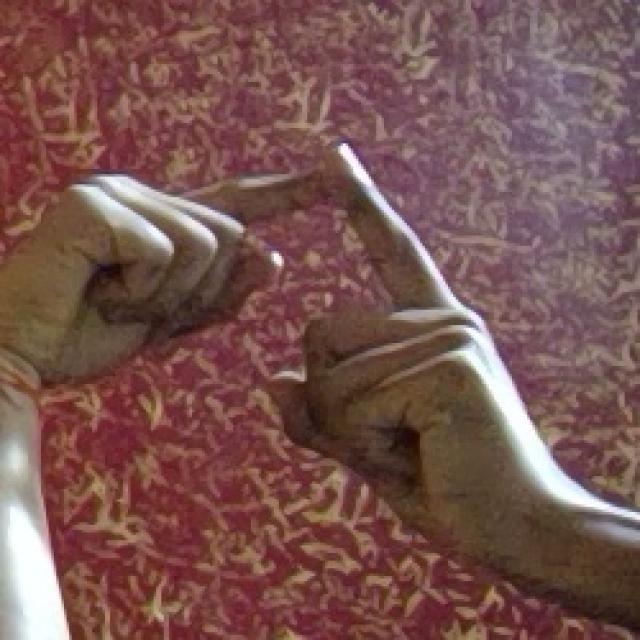Alphabet-E: (13, 137, 568, 571)
